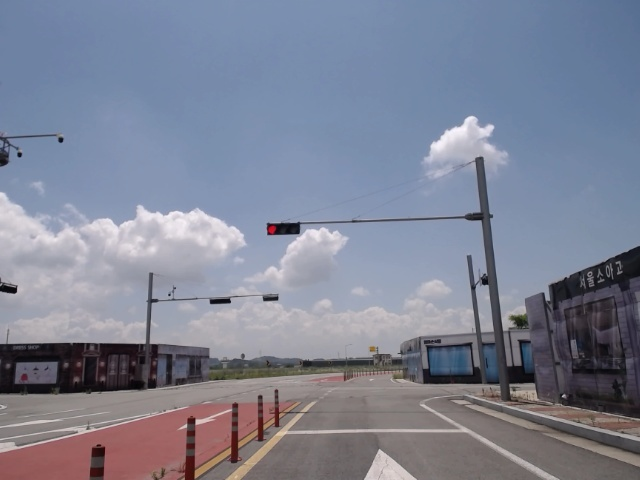red_3: (266, 221, 301, 236)
